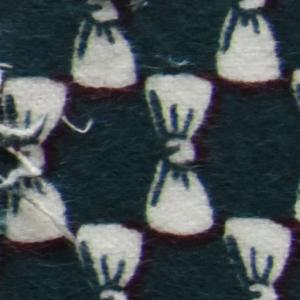Damage: (1, 58, 100, 271), (124, 1, 152, 13)
